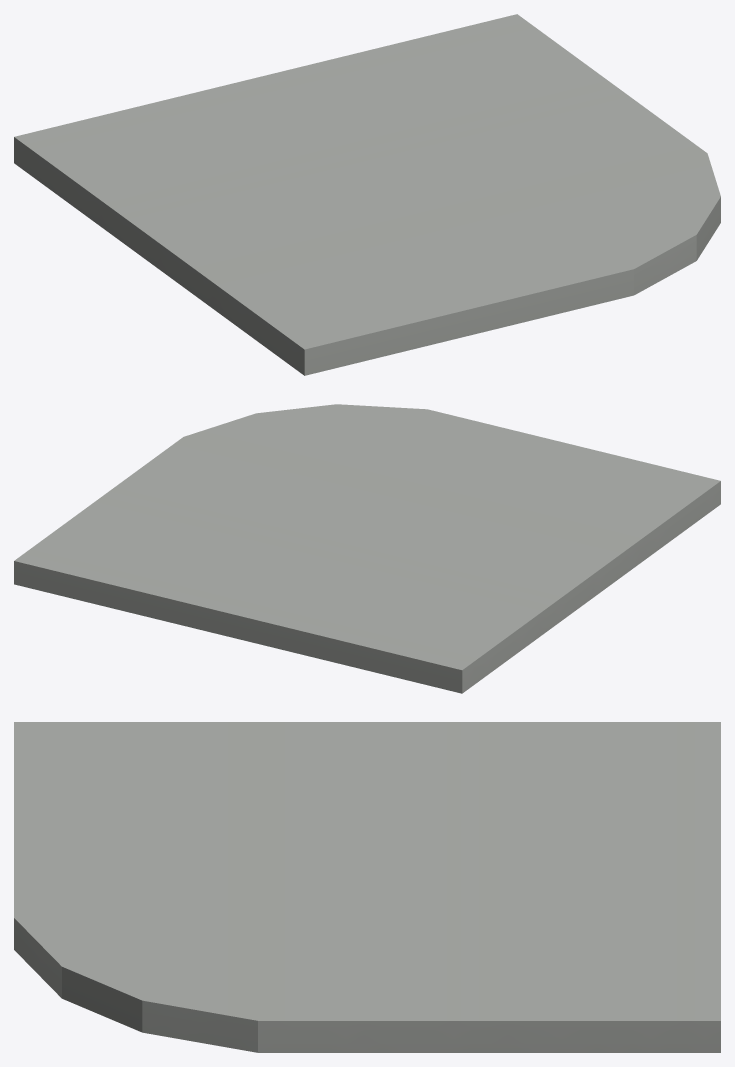
Rendered from Walkway_corner_A.fbx.
3 views of the same model, one above another, from view 1: azimuth 30°, elevation 25°; view 2: azimuth 150°, elevation 25°; view 3: azimuth 270°, elevation 25° (orthographic). The views are drawn at different scales.
Parts seen in each view (by area): view 1: Walkway_corner_A; view 2: Walkway_corner_A; view 3: Walkway_corner_A.
Boxes of the visible parts, <box> form: Walkway_corner_A: <box>14,14,720,375</box>; Walkway_corner_A: <box>14,404,720,693</box>; Walkway_corner_A: <box>14,722,720,1052</box>.
Size of the model in its own units: 200 by 10 by 200.
